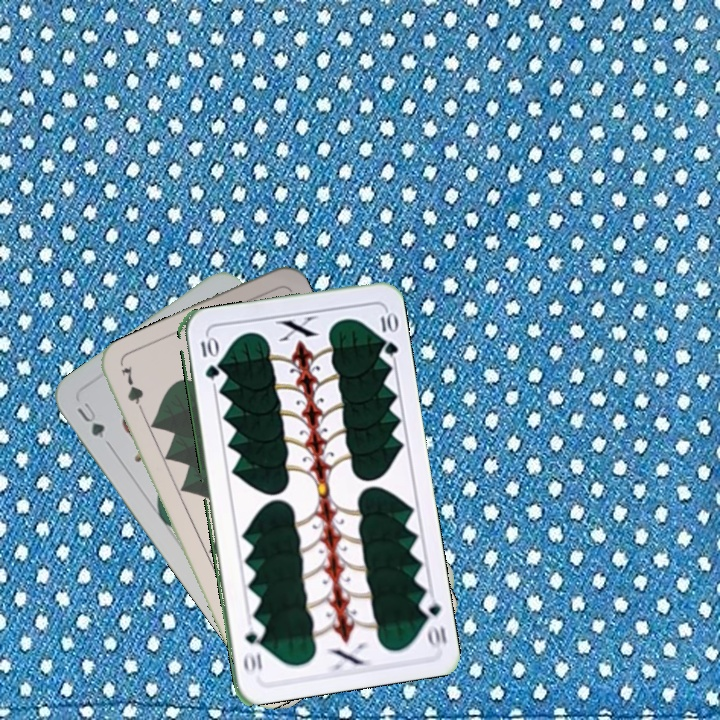G10: (415, 590, 450, 650), (196, 332, 219, 382)
G7: (117, 362, 148, 420)
GU: (72, 398, 108, 441)
